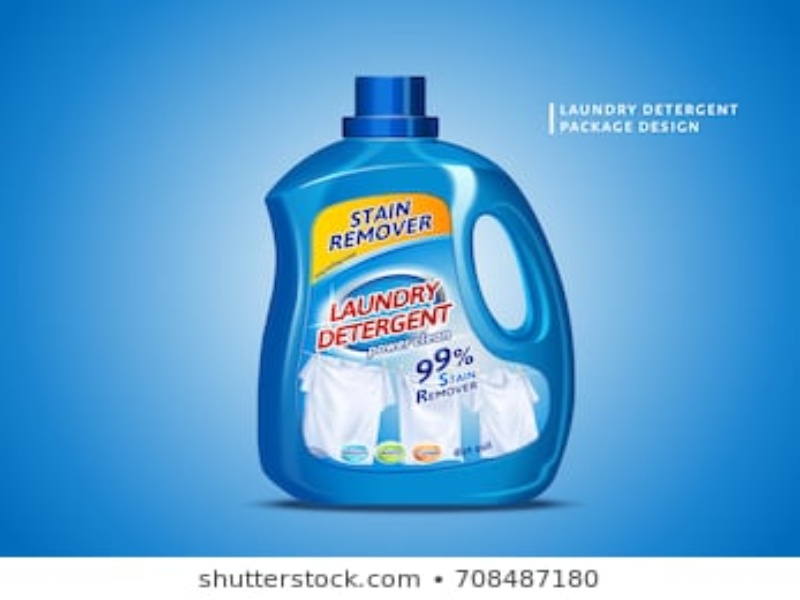detergent-bottle: (256, 66, 577, 510)
